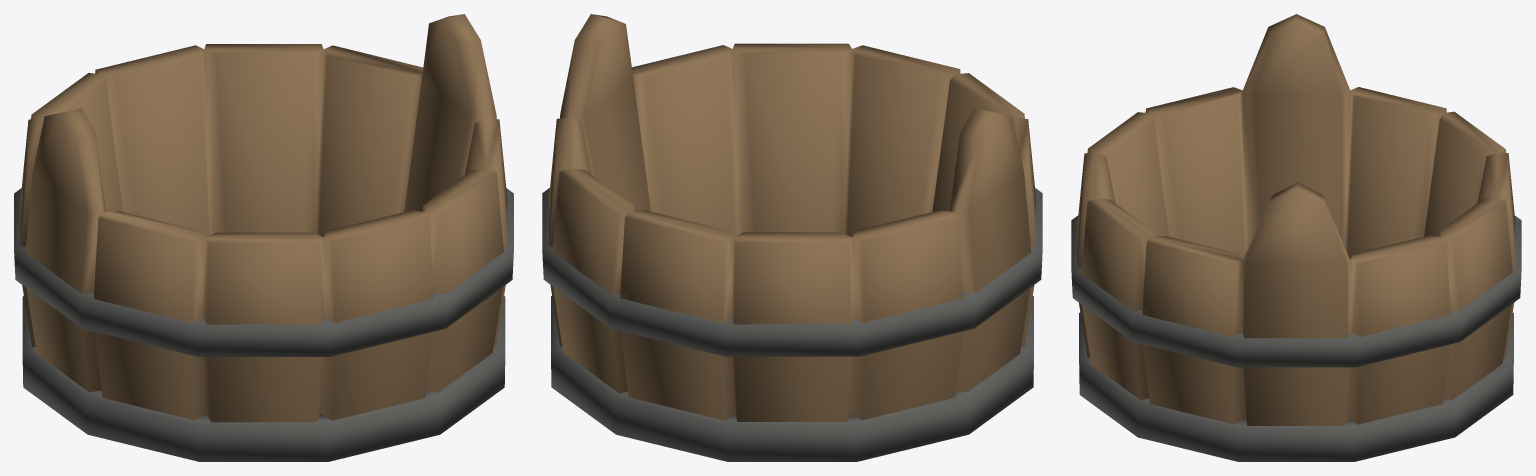
The model's file is rpgpp_ag_bathtub_wood_01a.fbx.
3 views of the same model, side by side, from view 1: azimuth 30°, elevation 25°; view 2: azimuth 150°, elevation 25°; view 3: azimuth 270°, elevation 25° (orthographic). The views are drawn at different scales.
Visible parts, largest first — view 1: rpgpp_ag_bathtub_wood_01a; view 2: rpgpp_ag_bathtub_wood_01a; view 3: rpgpp_ag_bathtub_wood_01a.
Boxes of the visible parts, left/top/right/bottom form: rpgpp_ag_bathtub_wood_01a: left=14, top=14, right=513, bottom=461; rpgpp_ag_bathtub_wood_01a: left=542, top=14, right=1042, bottom=461; rpgpp_ag_bathtub_wood_01a: left=1071, top=14, right=1521, bottom=461.
Bounding box in the file's own units: 1.29 × 0.8487 × 1.29.
